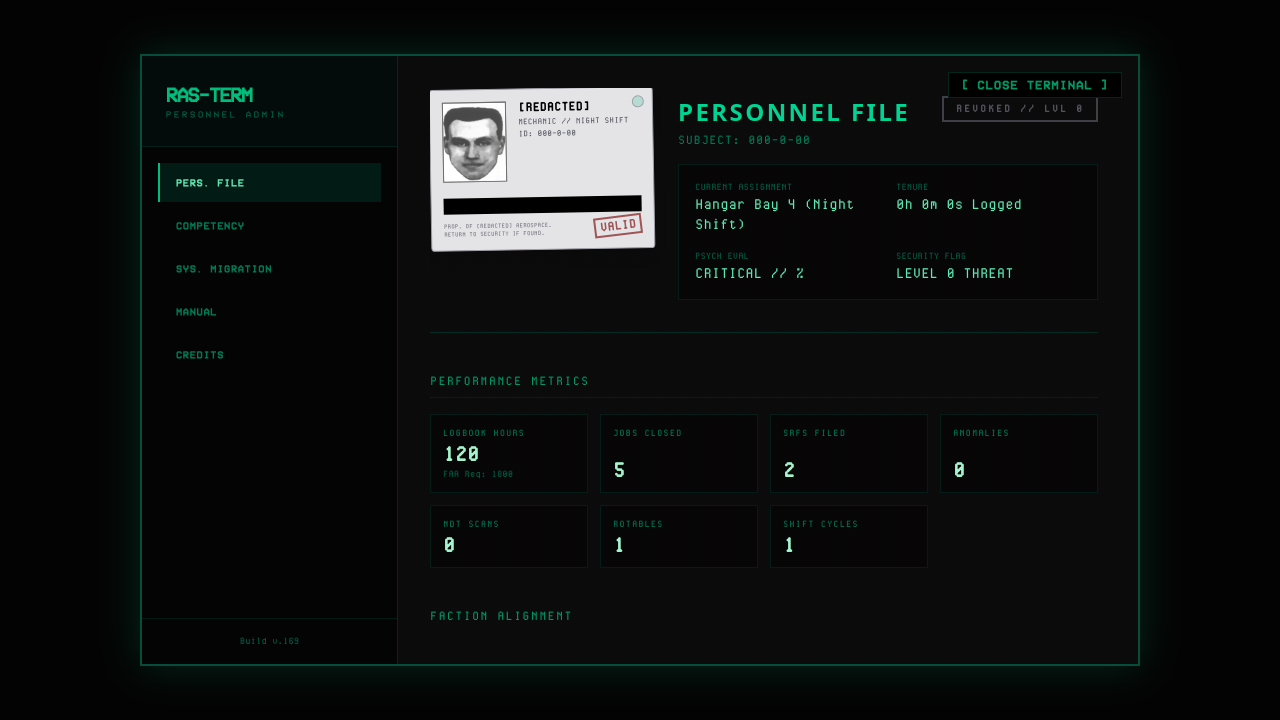
Test: AboutModal › navigates to About section
Click the button "CREDITS".
click(270, 354)  # box x1=158 y1=334 x2=381 y2=374
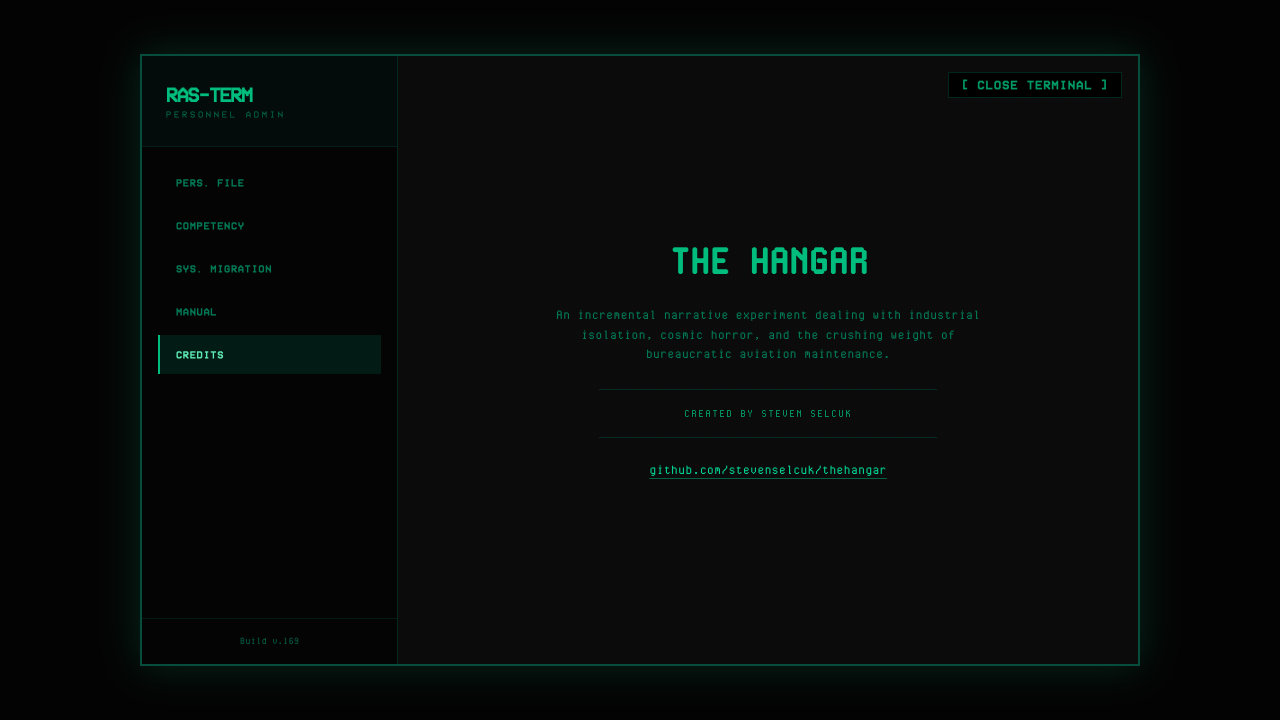
Check: the text "Created by Steven Selcuk" is shown, box x1=684 y1=407 x2=852 y2=420
